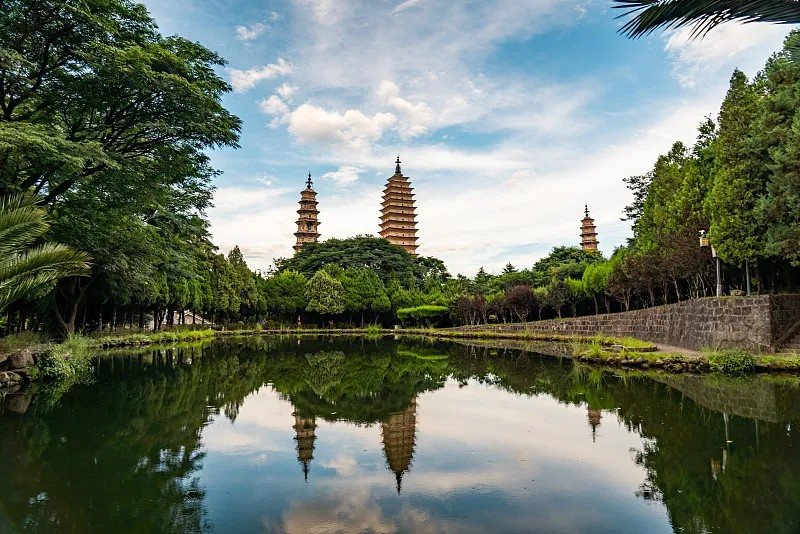ThreePagoda: (378, 157, 420, 259)
